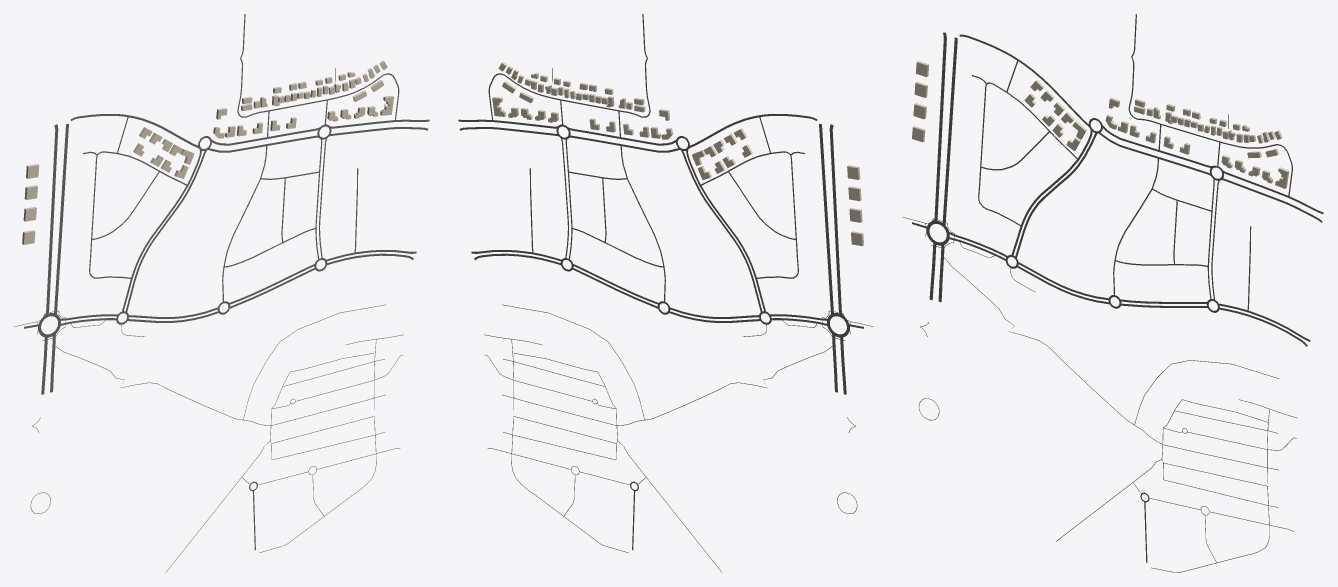
The model's file is historic-palestine-04_22_3457_3164.glb.
3 renders of one model, left to right at view 1: azimuth 30°, elevation 25°; view 2: azimuth 150°, elevation 25°; view 3: azimuth 330°, elevation 25°, orthographic.
Visible parts, largest first — view 1: Road יצחק רבין, Road יצחק רבין.001, Road הרב מצליח מאזוז; view 2: Road יצחק רבין, Road יצחק רבין.001, Road הרב מצליח מאזוז; view 3: Road יצחק רבין, Road יצחק רבין.001, Road הרב מצליח מאזוז.
Part boxes in pixels (box(x1,y1,x2,y2)): Road יצחק רבין: box(44, 124, 58, 317); Road יצחק רבין.001: box(54, 124, 68, 315); Road הרב מצליח מאזוז: box(237, 14, 399, 119); Road יצחק רבין: box(829, 124, 843, 316); Road יצחק רבין.001: box(819, 124, 833, 314); Road הרב מצליח מאזוז: box(488, 14, 650, 120); Road יצחק רבין: box(932, 32, 946, 223); Road יצחק רבין.001: box(942, 37, 957, 226); Road הרב מצליח מאזוז: box(1128, 14, 1292, 196).
Size of the model in its own units: 1093 by 1364 by 8.7.
